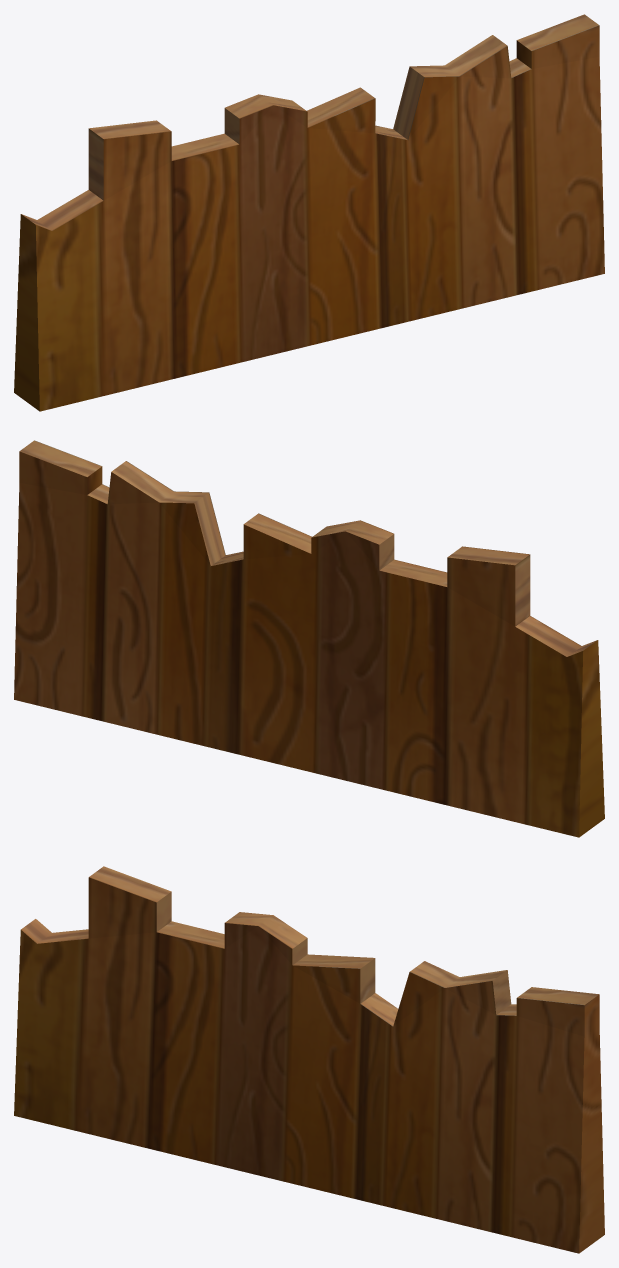
The model's file is Fence_02.FBX.
The picture shows the model from 3 angles, top to bottom: view 1: azimuth 30°, elevation 25°; view 2: azimuth 150°, elevation 25°; view 3: azimuth 330°, elevation 25°; orthographic projection.
Parts seen in each view (by area): view 1: fence_02; view 2: fence_02; view 3: fence_02.
Part boxes in pixels (x1,y1,x2,y2): fence_02: (14,14,604,411); fence_02: (14,440,604,837); fence_02: (14,866,604,1253).
Size of the model in its own units: 96.03 by 40.83 by 7.61.
